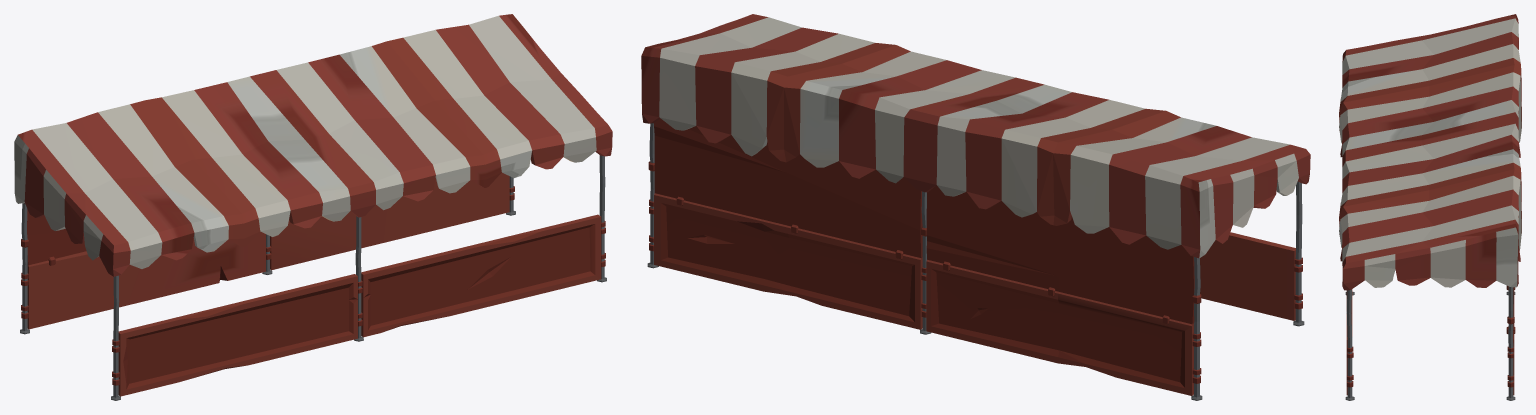
Rendered from stall-03.glb.
The picture shows the model from 3 angles, left to right: view 1: azimuth 30°, elevation 25°; view 2: azimuth 150°, elevation 25°; view 3: azimuth 270°, elevation 25°; orthographic projection. The views are drawn at different scales.
Parts seen in each view (by area): view 1: SM_Prop_Stall_03; view 2: SM_Prop_Stall_03; view 3: SM_Prop_Stall_03.
Part boxes in pixels (<box>): SM_Prop_Stall_03: <box>14,14,612,400</box>; SM_Prop_Stall_03: <box>641,14,1310,400</box>; SM_Prop_Stall_03: <box>1339,14,1521,400</box>.
Size of the model in its own units: 769 by 293 by 273.
Materials: 1 (1 with a texture image).
